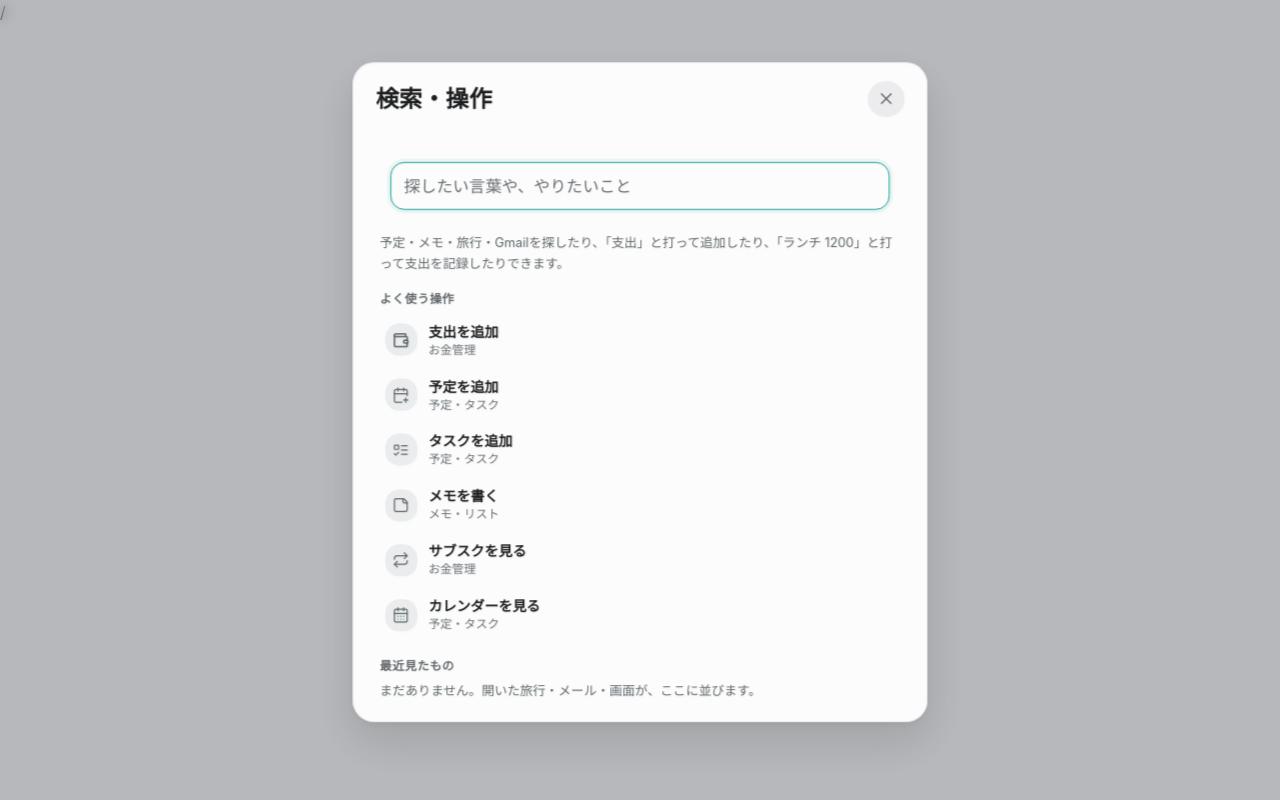
まとめて検索(打った時) › 操作にもデータにも当たらなければ「見つかりませんでした」
Step 1. Type "存在しない言葉" into the dropdown named "まとめて検索" → (640, 185), box [390,161,890,209]
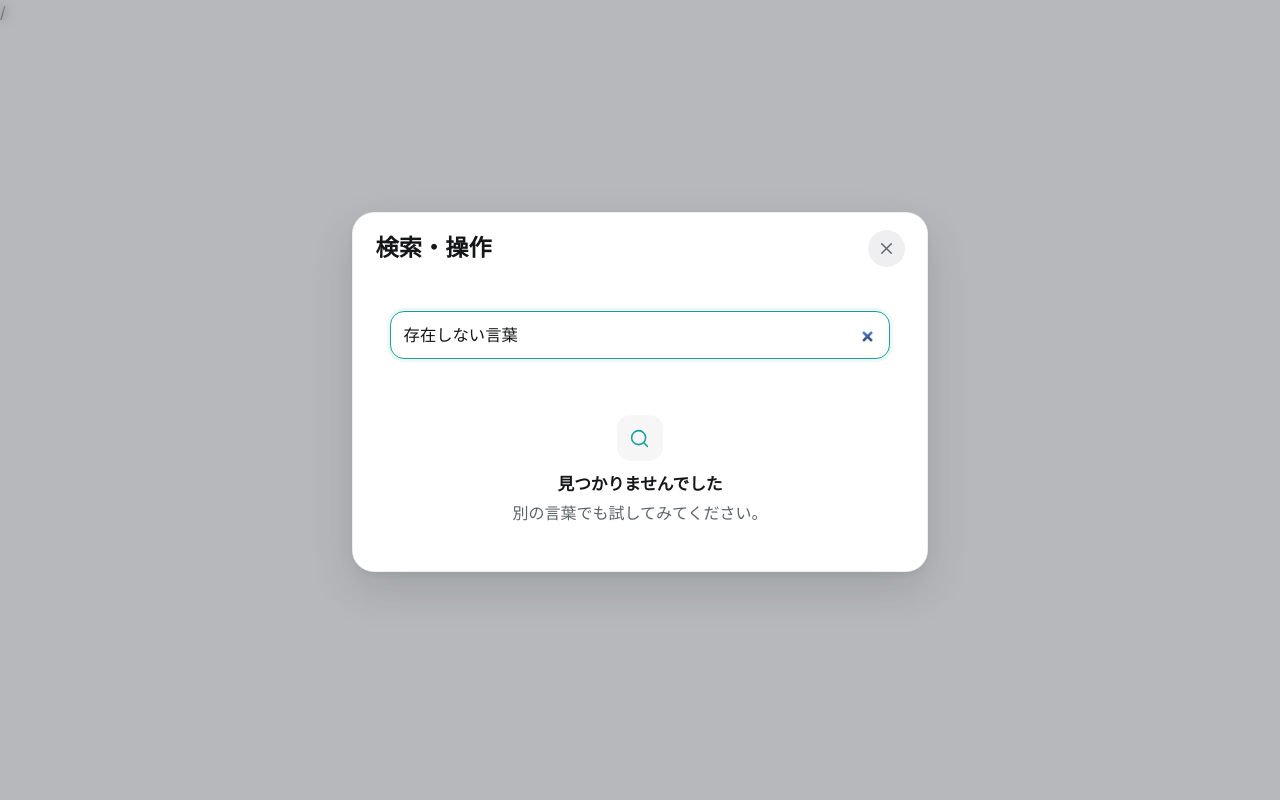
Expected: the text "見つかりませんでした" is shown, [558,474,722,494]
Expected: no options are shown
